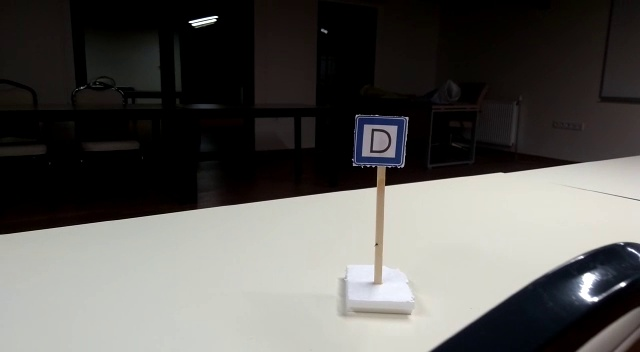durak: (352, 115, 408, 166)
